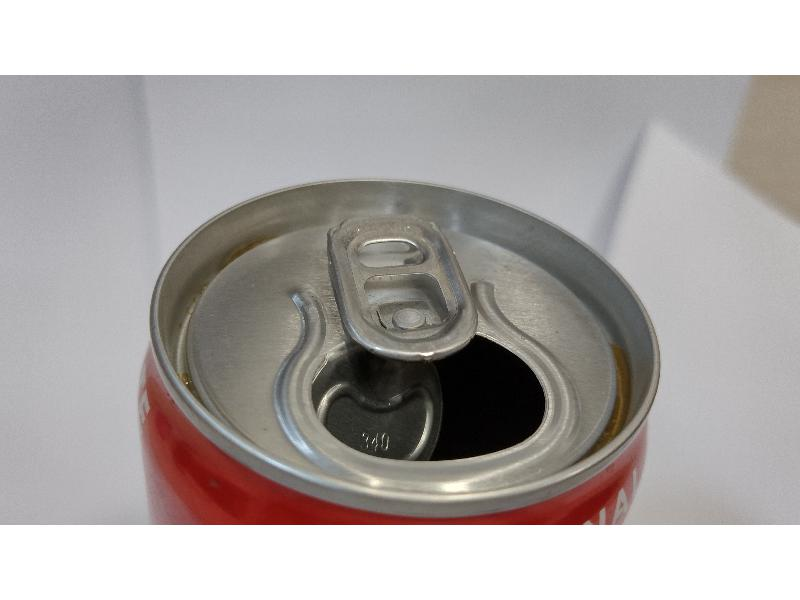can: (123, 168, 662, 524)
